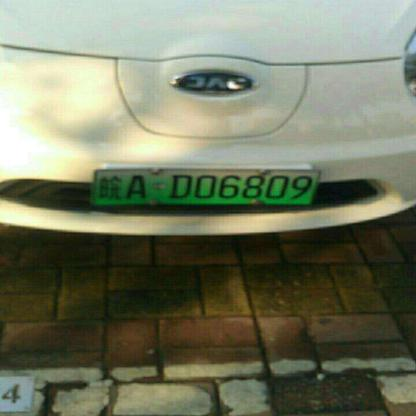lp: (93, 170, 318, 203)
